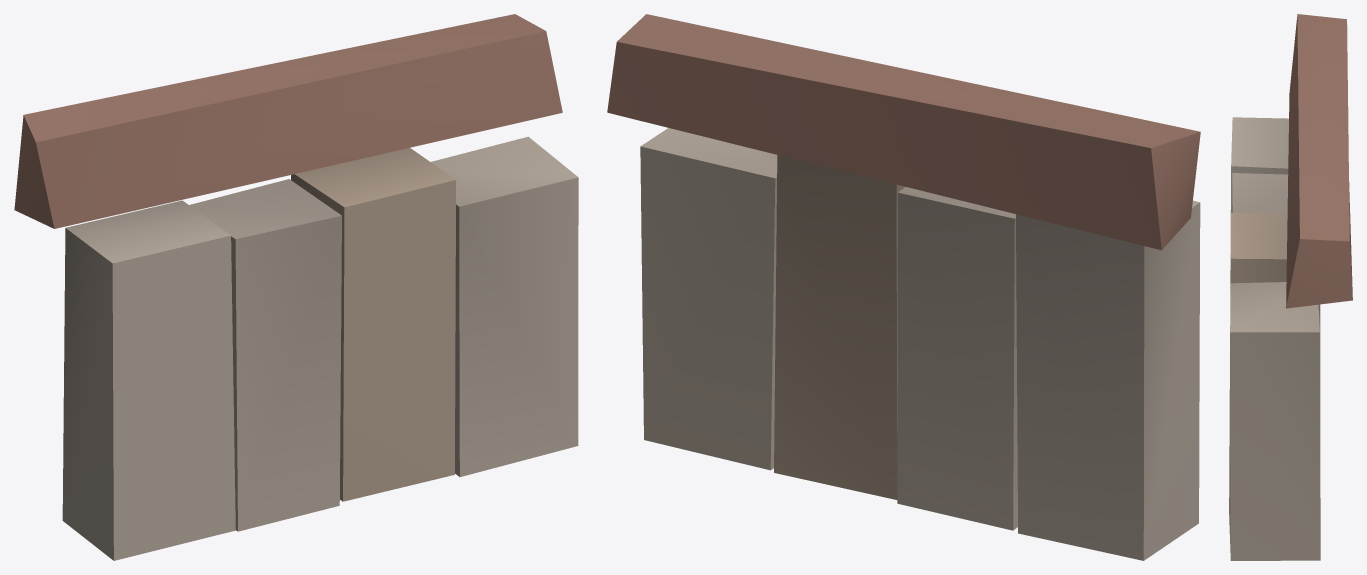
Rendered from glyph_wall.glb.
3 views of the same model, side by side, from view 1: azimuth 30°, elevation 25°; view 2: azimuth 150°, elevation 25°; view 3: azimuth 270°, elevation 25° (orthographic). The views are drawn at different scales.
Parts seen in each view (by area): view 1: glyph_wall; view 2: glyph_wall; view 3: glyph_wall.
Boxes of the visible parts, x1,y1,x2,y2 form: glyph_wall: (14,14,578,560); glyph_wall: (607,14,1200,560); glyph_wall: (1229,14,1352,560).
Bounding box in the file's own units: 9.33 × 6.91 × 2.26.
